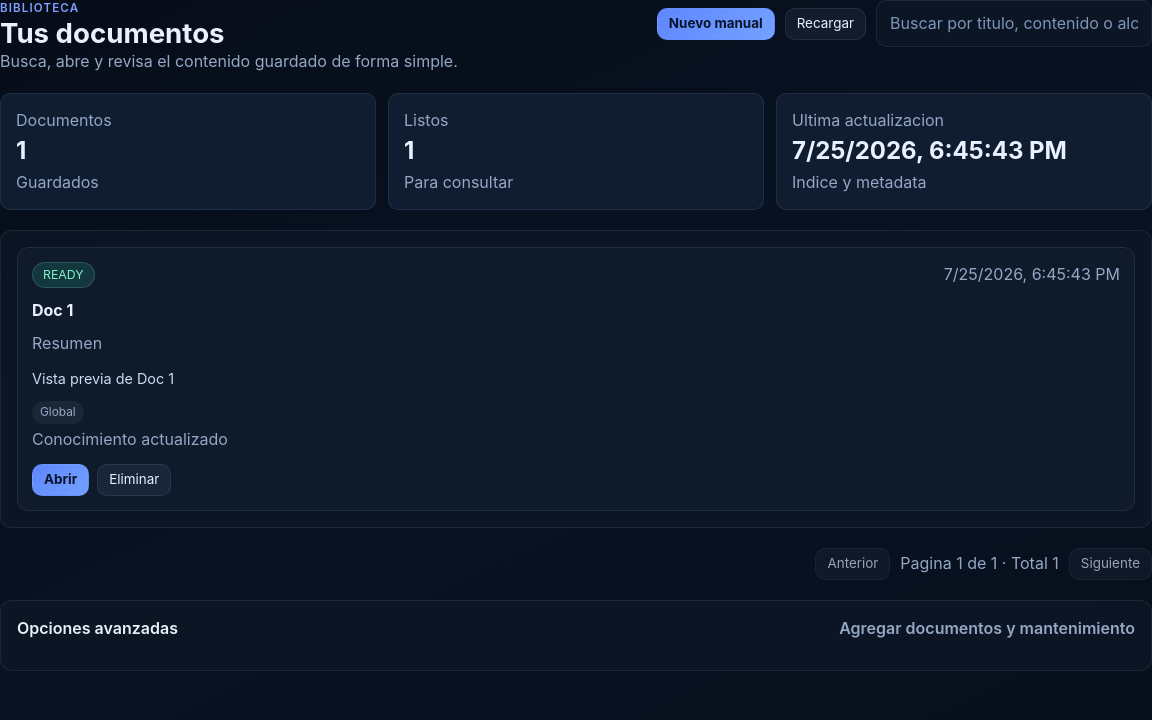
DocumentsPage › opens a document and loads full content on demand
Check: the heading "Doc 1" is shown, box 32,300 -> 74,320
Click the button "Abrir".
click(61, 480)  # box 32,464 -> 89,496
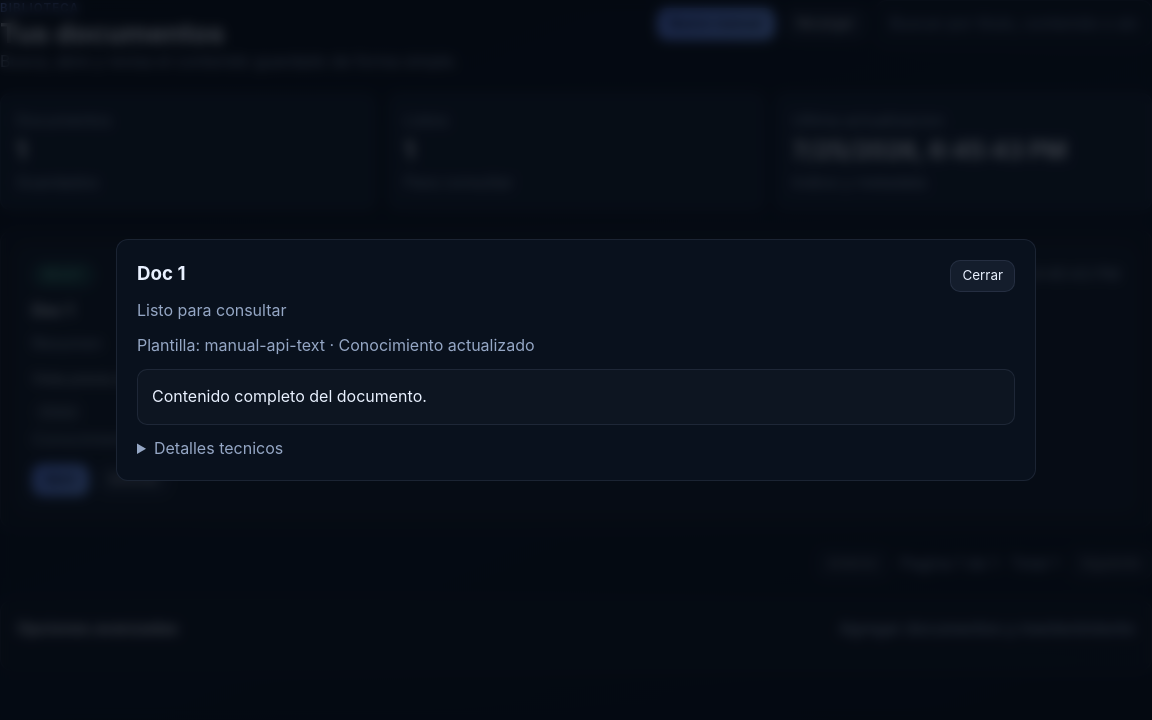
Check: the dialog named "Documento" is shown, box 116,239 -> 1036,481
Check: the text "Contenido completo del documento." is shown, box 152,386 -> 427,406
